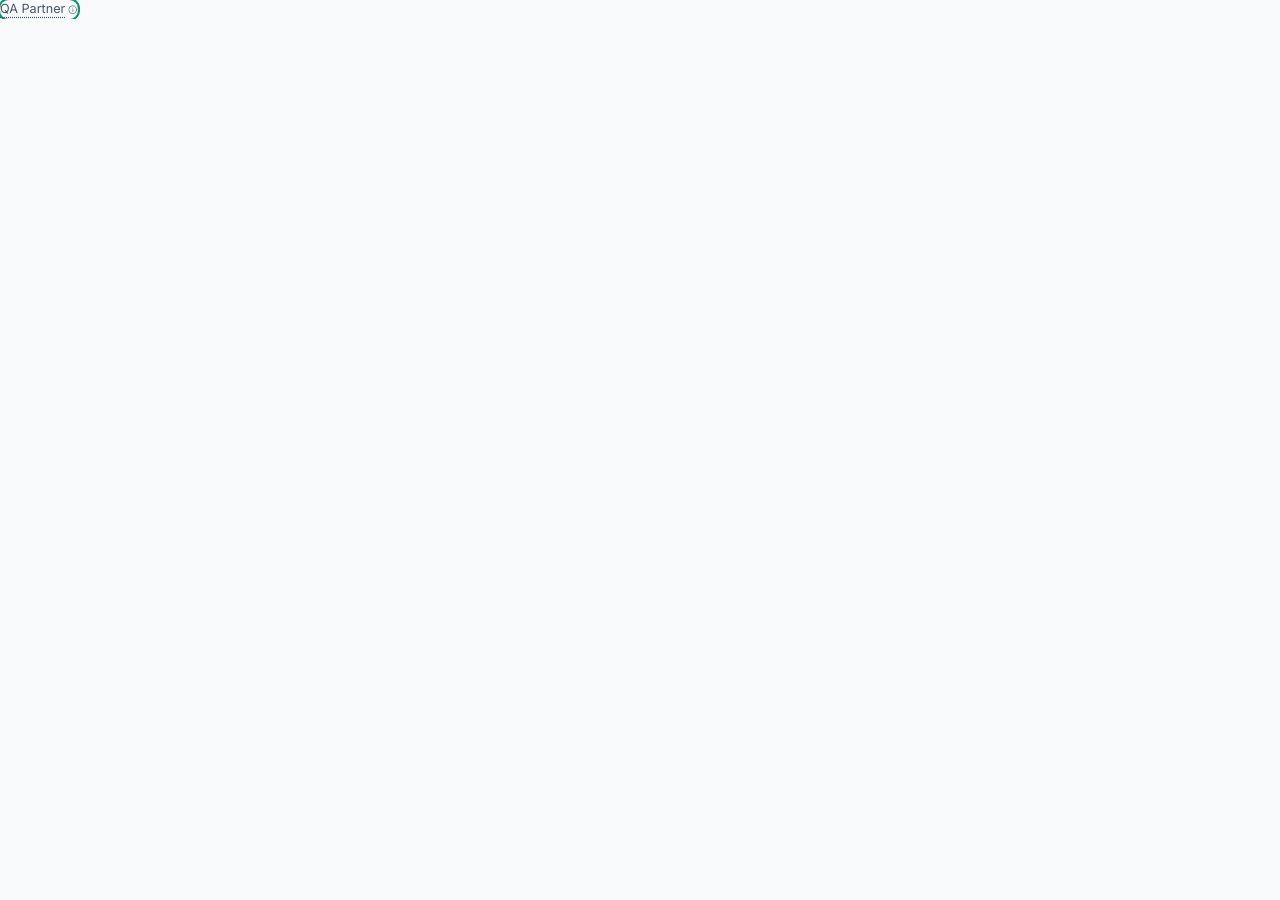
Scenario: read-only loan overview information › shows the saved chosen address (alternative=false), never live partner data
The width and height of the screenshot is (1280, 900).
Click the button.
click(39, 10)  # box top-left (0, 0), bottom-right (78, 19)
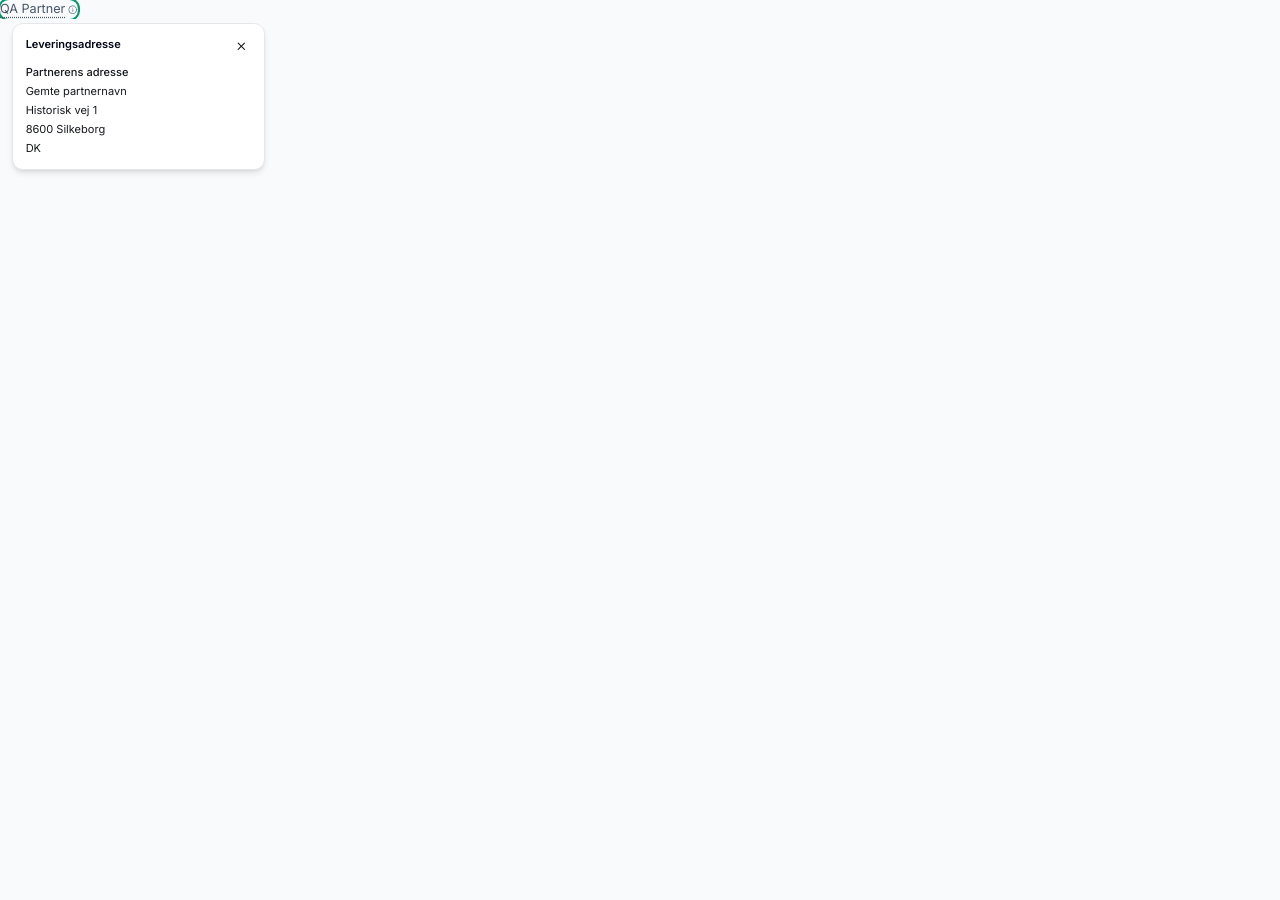
expect the text "Historisk vej 1" is shown: met, box top-left (26, 103), bottom-right (97, 117)
expect the text "Partnerens adresse" is shown: met, box top-left (26, 65), bottom-right (128, 79)
expect the text "Gemte partnernavn" is shown: met, box top-left (26, 84), bottom-right (127, 98)
